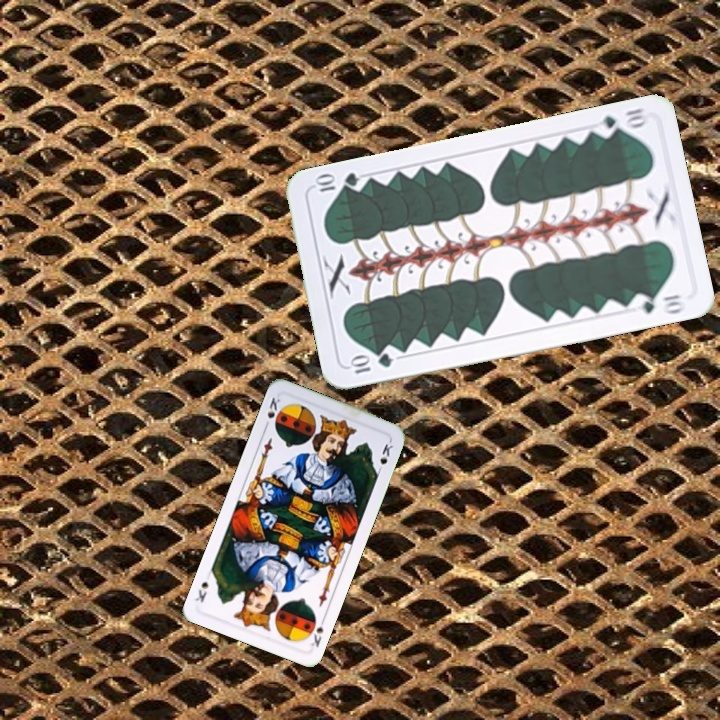G10: (592, 104, 650, 140), (345, 349, 395, 376)
SK: (260, 393, 283, 431), (306, 613, 328, 650)
